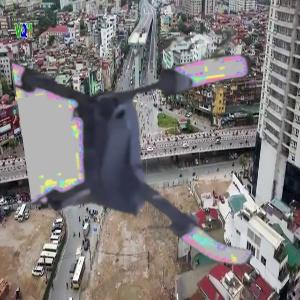drone: (29, 41, 279, 291)
